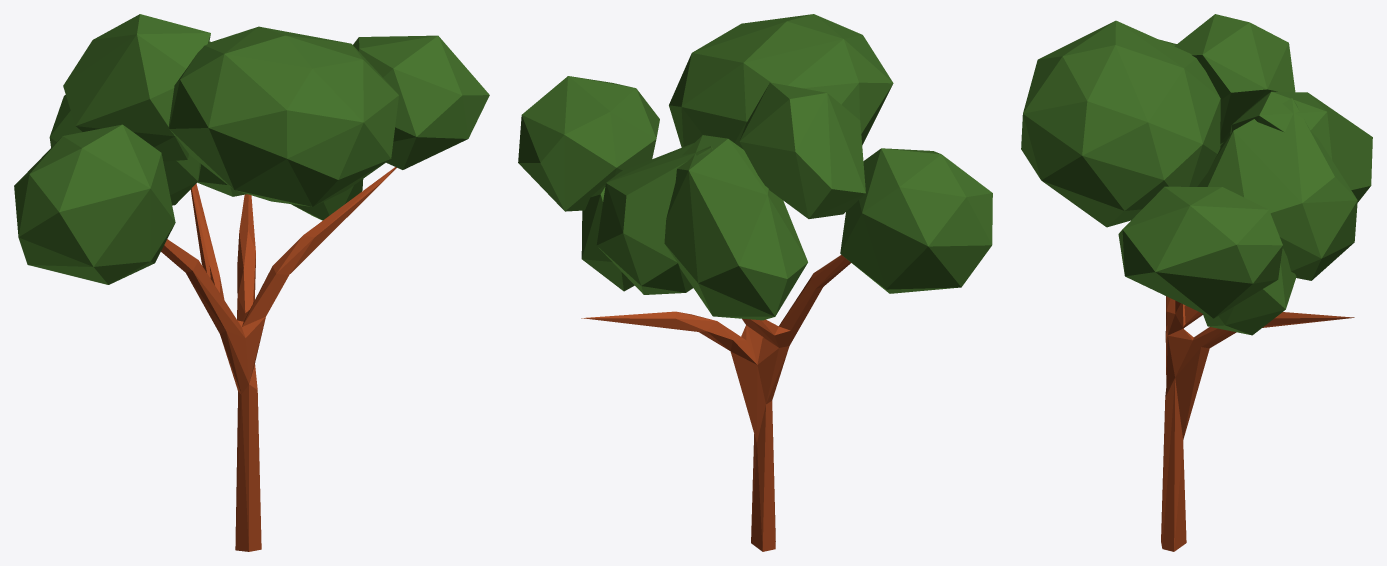
File: SM_tree_town_02.fbx
3 renders of one model, left to right at view 1: azimuth 30°, elevation 25°; view 2: azimuth 150°, elevation 25°; view 3: azimuth 270°, elevation 25°, orthographic. The views are drawn at different scales.
Visible parts, largest first — view 1: Object292; view 2: Object292; view 3: Object292.
Boxes of the visible parts, x1,y1,x2,y2 form: Object292: (14, 14, 489, 551); Object292: (518, 14, 992, 551); Object292: (1021, 14, 1372, 551).
Bounding box in the file's own units: 339 × 368 × 233.
